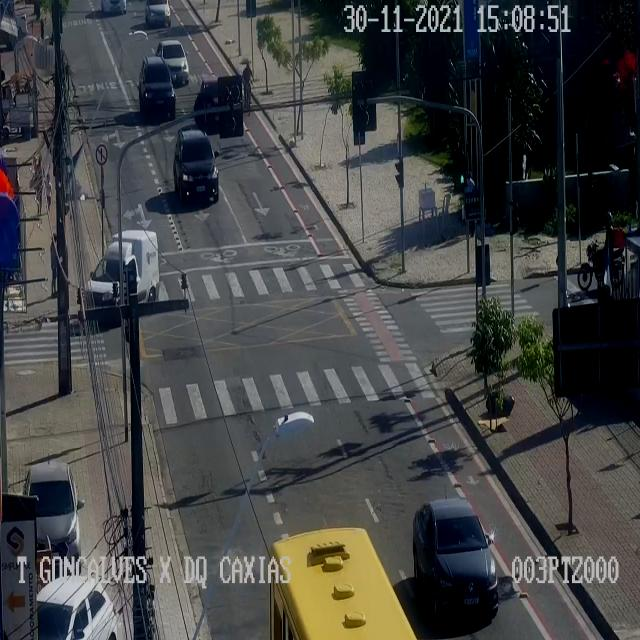Bus: (269, 527, 417, 639)
Car: (412, 498, 498, 617), (24, 462, 80, 572), (82, 230, 158, 310), (36, 575, 117, 639), (173, 129, 218, 201), (139, 56, 175, 117), (155, 39, 189, 83), (200, 78, 227, 121), (146, 1, 176, 28), (98, 0, 130, 20)
Motorcycle: (577, 211, 624, 289)
